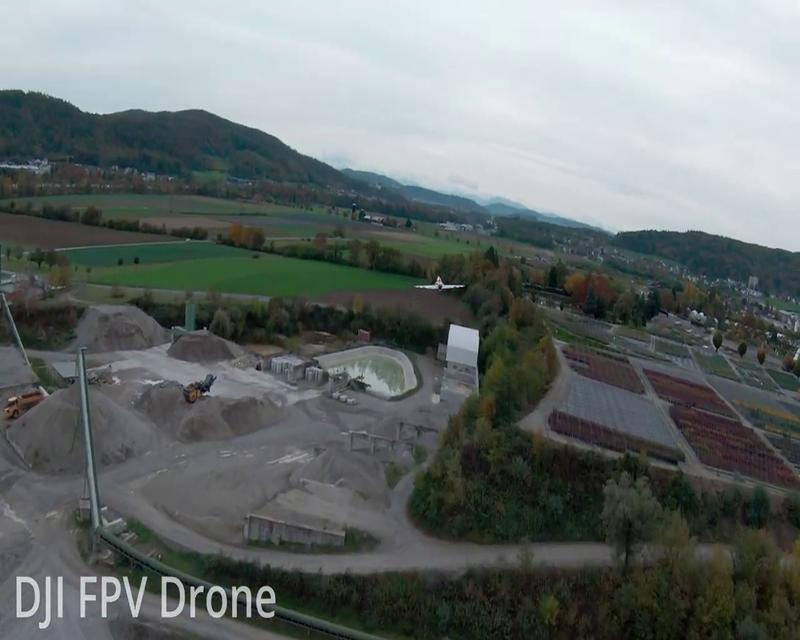UAV: (416, 275, 466, 293)
